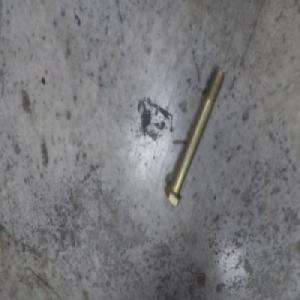Bolt: (163, 69, 222, 206)
